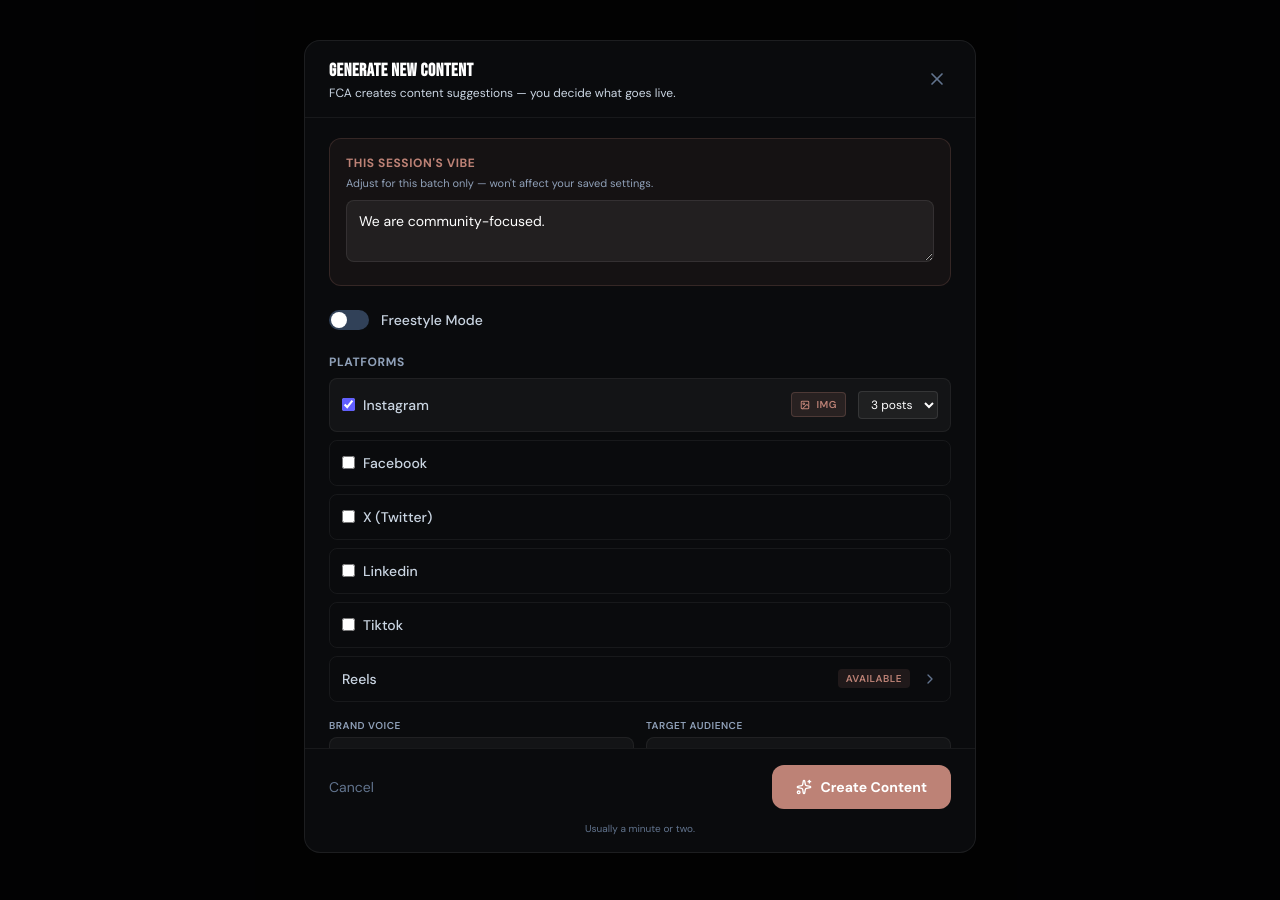
Scenario: every terminal state renders honestly (2026-09-21 full /review) › no row for 10 minutes is "we haven't heard back" with a way to Deliveries — never "nothing was created"
The image size is (1280, 900).
Click the button "Create Content" at [862, 787], box [772,765,951,809]
Wait 604000 ms
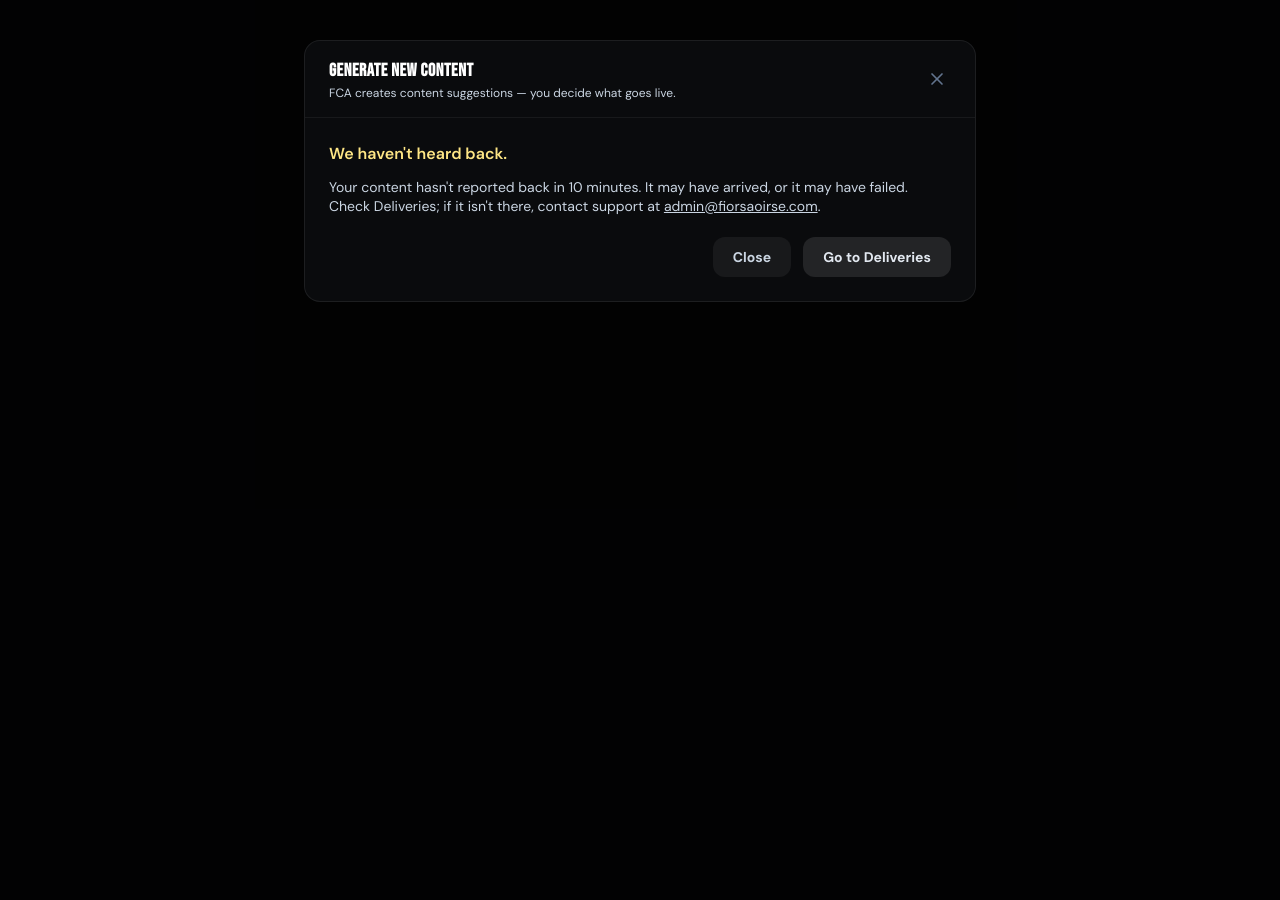
Check: the heading "We haven't heard back." is shown, box [329,143,507,164]
Check: the text "hasn't reported back in 10 minutes" is shown, box [329,178,951,216]
Check: the button "Go to Deliveries" is shown, box [803,236,951,276]
